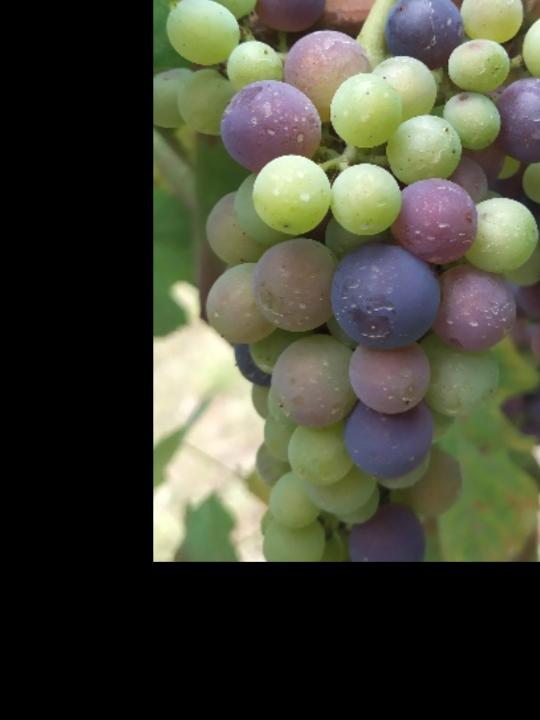grape: (162, 0, 540, 634)
